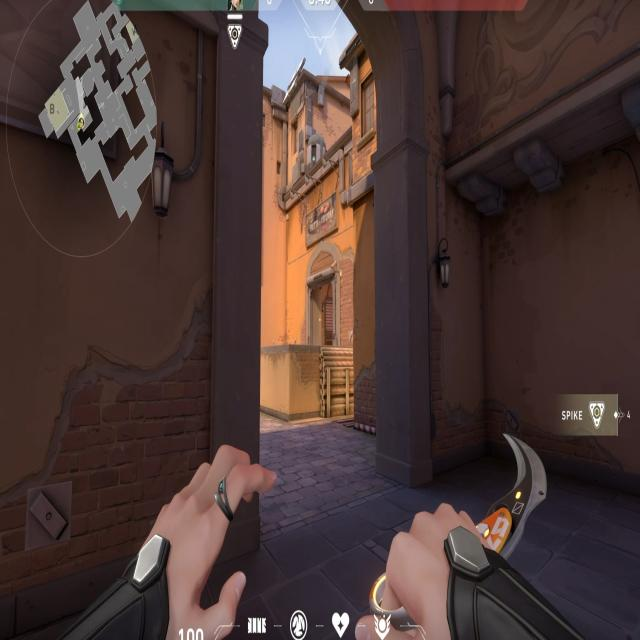B_Cubby: (285, 333, 363, 437)
